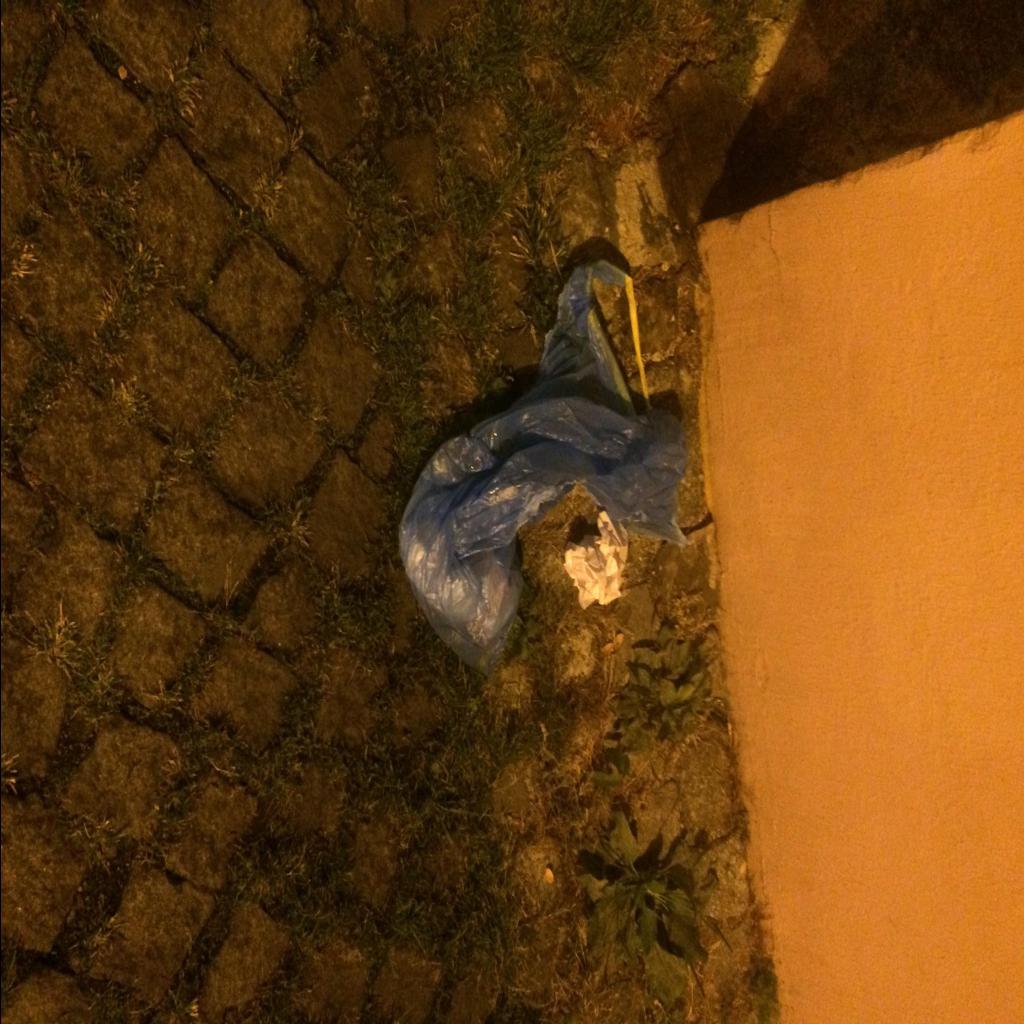Garbage bag: (398, 258, 688, 676)
Normal paper: (562, 510, 626, 609)
